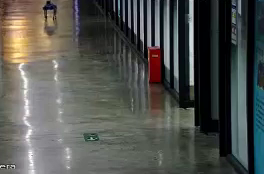robot dog: (41, 1, 60, 24)
